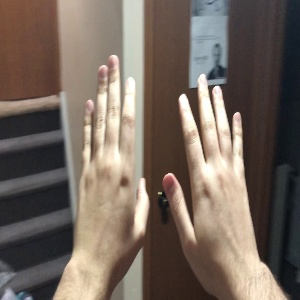hand: (162, 73, 259, 265), (76, 56, 149, 261)
